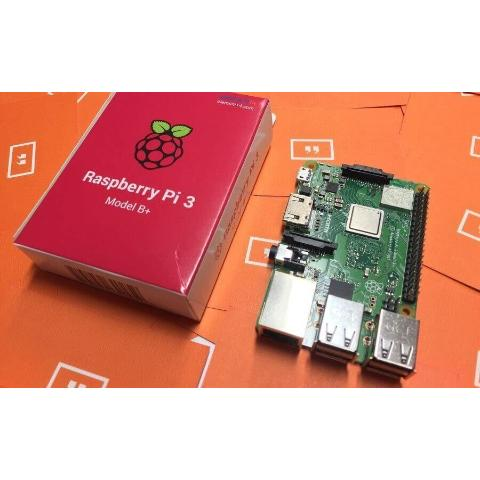Raspberry-Pi-3-Model-B-: (252, 156, 434, 384)
